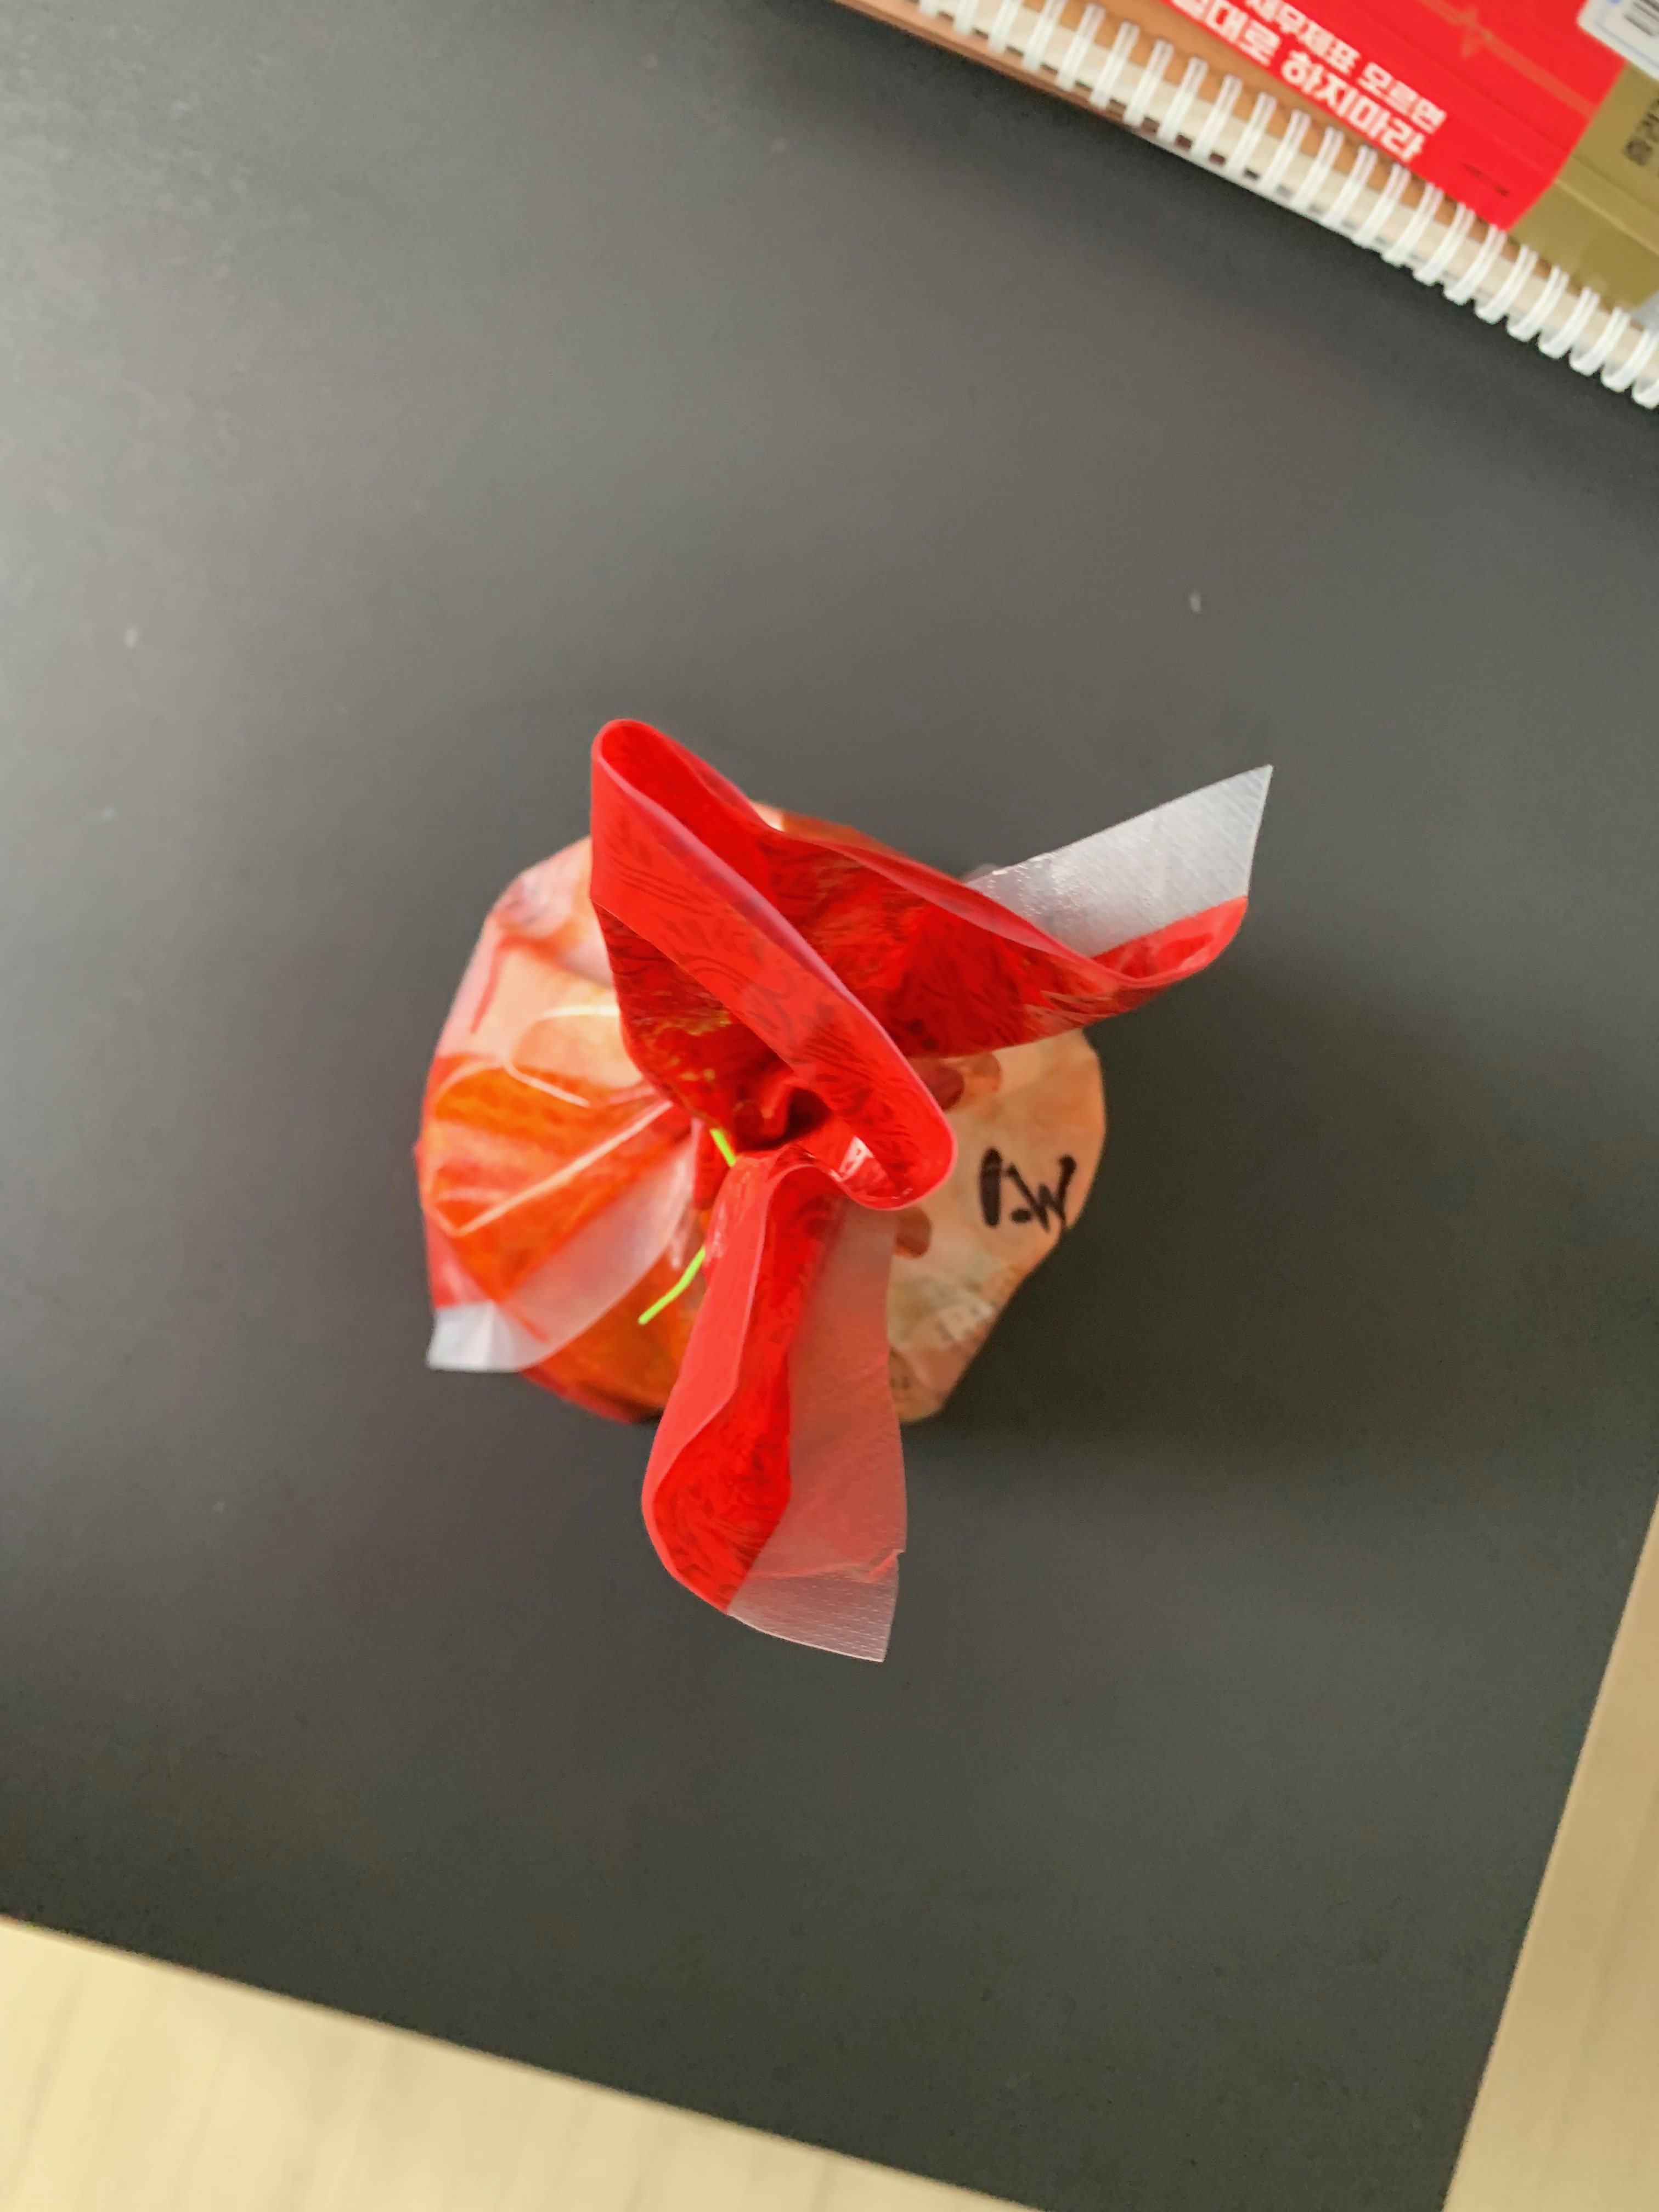kimchi: (418, 714, 1251, 1611)
